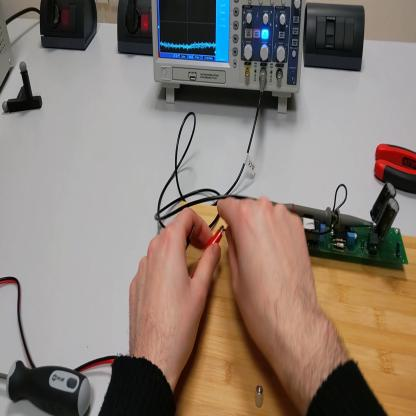hand: (219, 196, 323, 372), (128, 207, 221, 379)
high voltage board: (221, 183, 408, 265)
oscilloscope: (152, 2, 307, 113)
oscilloscope probe tip: (274, 199, 375, 230)
pliers: (375, 142, 415, 195)
power supply: (2, 3, 14, 94)
screwdriver-: (1, 357, 92, 416)
socket: (40, 2, 100, 52), (118, 1, 155, 59)
working area: (181, 209, 416, 415)
